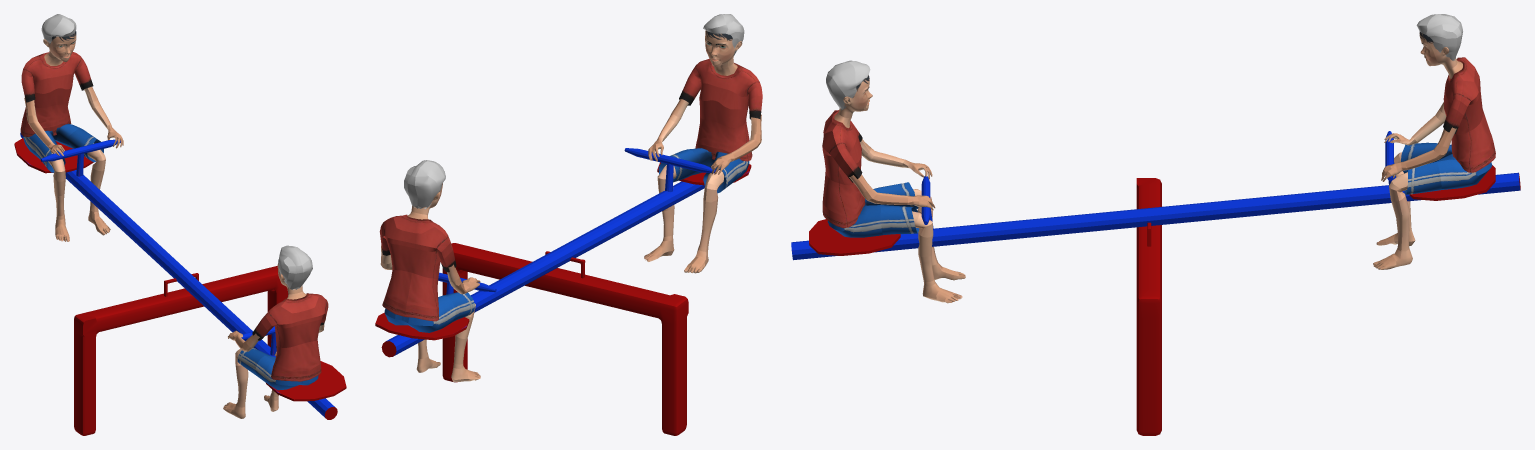
File: seesaw.fbx
The picture shows the model from 3 angles, left to right: view 1: azimuth 30°, elevation 25°; view 2: azimuth 150°, elevation 25°; view 3: azimuth 270°, elevation 25°; orthographic projection. The views are drawn at different scales.
Visible parts, largest first — view 1: pCube4, pCube1; view 2: pCube4, pCube1; view 3: pCube4, pCube1.
Part boxes in pixels (box(x1,y1,x2,y2)): pCube4: box(14, 14, 346, 419); pCube1: box(74, 266, 288, 435); pCube4: box(375, 14, 762, 381); pCube1: box(442, 243, 688, 435); pCube4: box(791, 14, 1520, 303); pCube1: box(1136, 178, 1161, 435).
Size of the model in its own units: 1.87 by 2.61 by 4.75.
